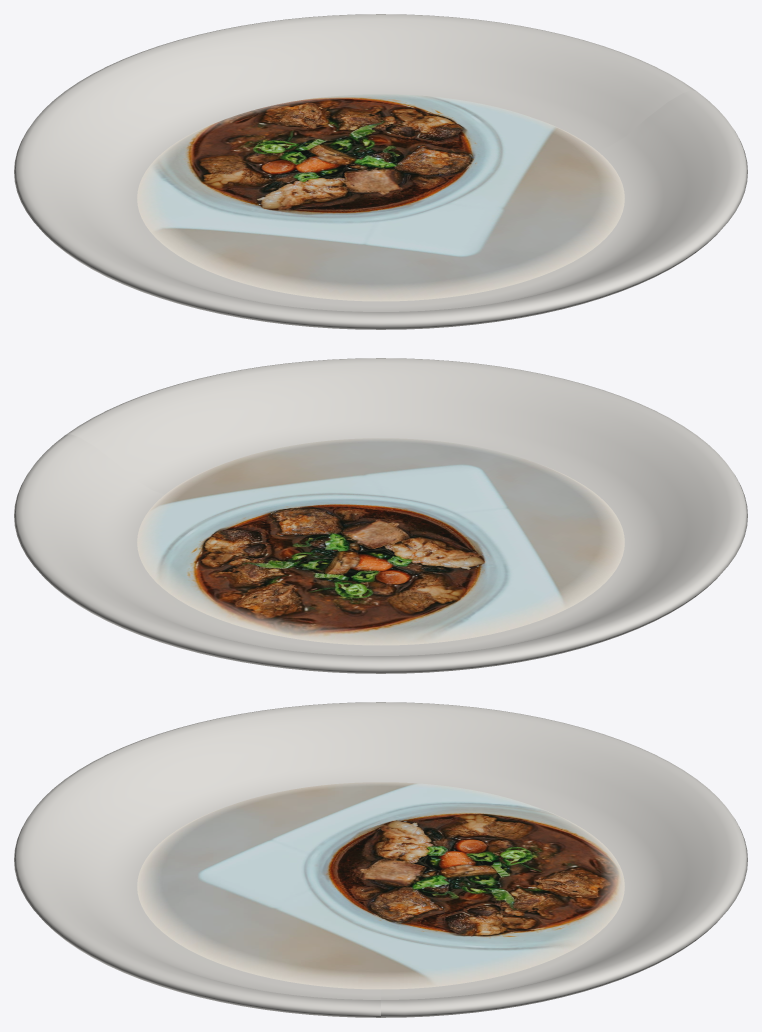
The model's file is kedjenou-poulet.glb.
3 views of the same model, one above another, from view 1: azimuth 30°, elevation 25°; view 2: azimuth 150°, elevation 25°; view 3: azimuth 270°, elevation 25° (orthographic).
Visible parts, largest first — view 1: assiette, plat; view 2: assiette, plat; view 3: assiette, plat.
Boxes of the visible parts, box(x1,y1,x2,y2) form: assiette: box(14, 14, 747, 329); plat: box(137, 94, 624, 301); assiette: box(14, 358, 747, 673); plat: box(137, 438, 624, 645); assiette: box(14, 702, 747, 1017); plat: box(137, 782, 624, 989).
Size of the model in its own units: 0.301 by 0.0232 by 0.301.
2 materials, 1 textured.
